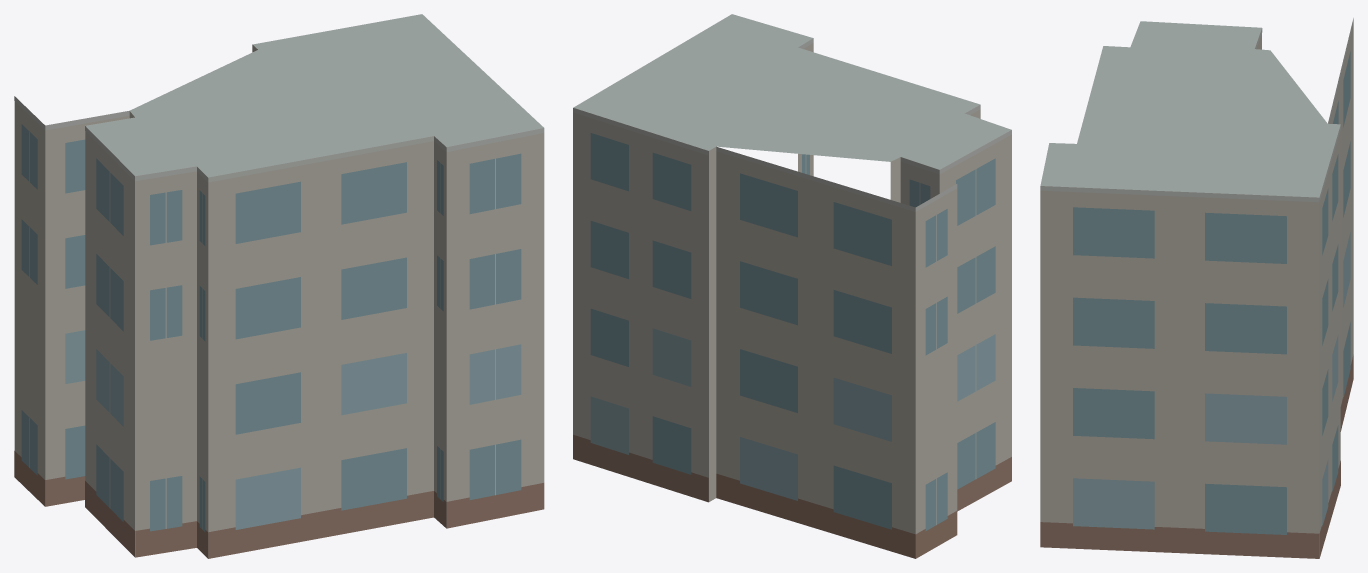
File: survey-upis-32680438.glb
3 views of the same model, side by side, from view 1: azimuth 30°, elevation 25°; view 2: azimuth 150°, elevation 25°; view 3: azimuth 270°, elevation 25° (orthographic). The views are drawn at different scales.
Visible parts, largest first — view 1: survey-upis-32680438.tmp; view 2: survey-upis-32680438.tmp; view 3: survey-upis-32680438.tmp.
Boxes of the visible parts, x1=… form: survey-upis-32680438.tmp: x1=14, y1=14, x2=544, y2=558; survey-upis-32680438.tmp: x1=573, y1=14, x2=1011, y2=558; survey-upis-32680438.tmp: x1=1040, y1=18, x2=1353, y2=558.
Bounding box in the file's own units: 20.49 × 18.8 × 14.78.
